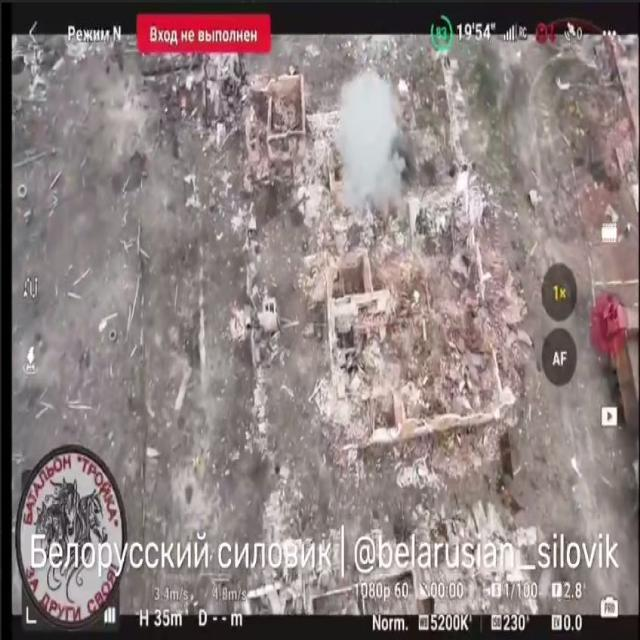fortification: (304, 129, 505, 447), (246, 517, 528, 640), (554, 110, 640, 243), (230, 76, 319, 181), (585, 279, 640, 445)
